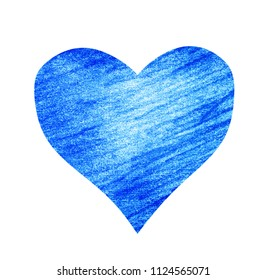heart: (32, 45, 236, 235)
